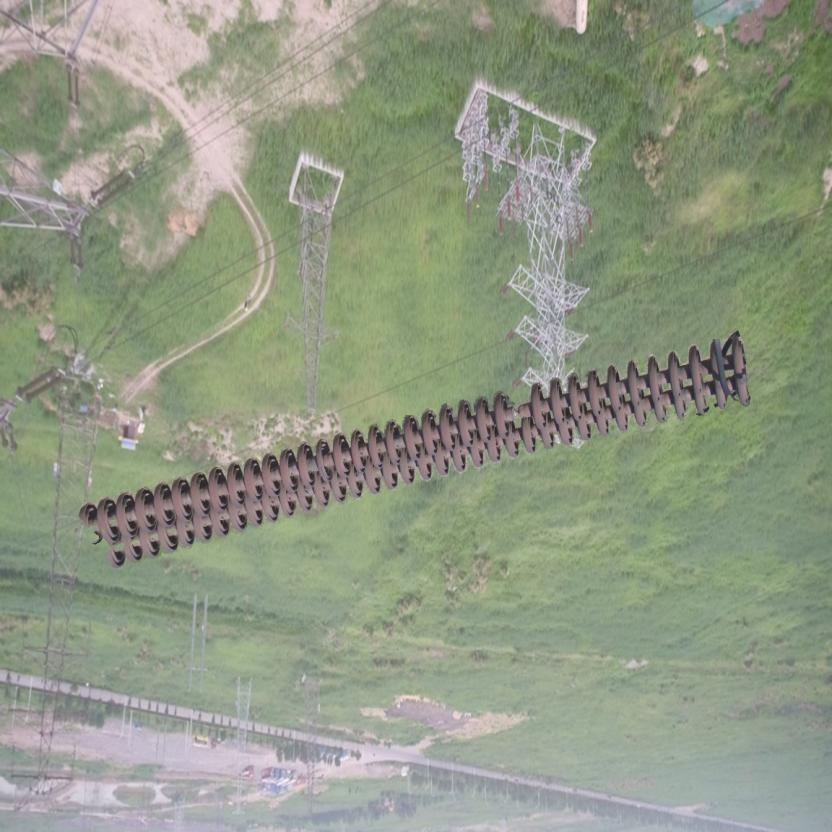defect: (491, 385, 550, 442)
